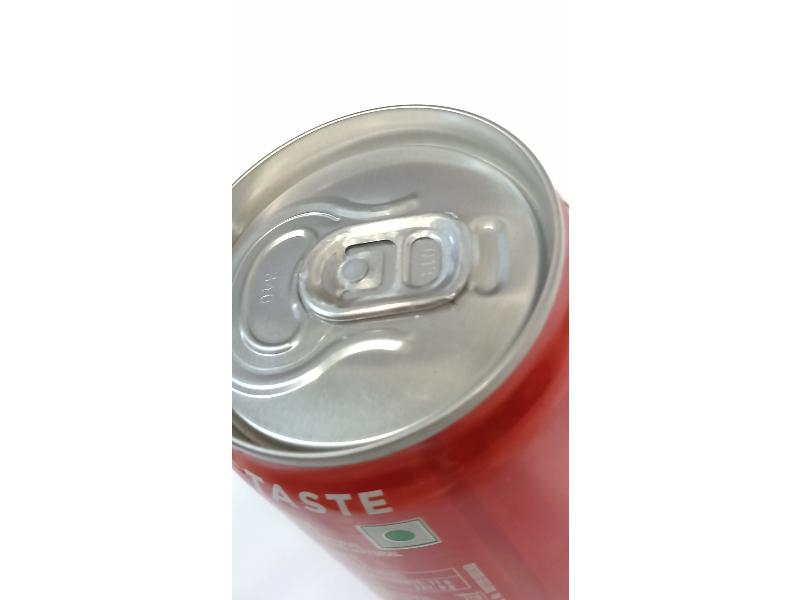can: (232, 104, 568, 595)
